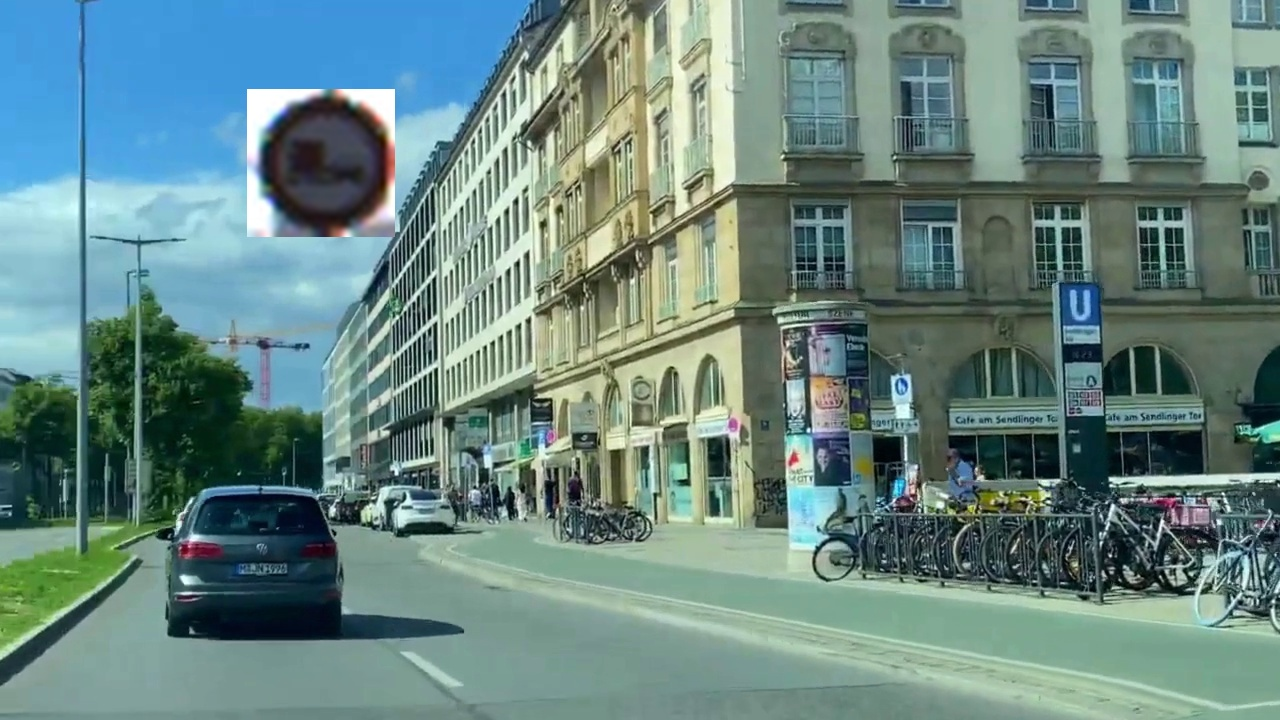No pass >3.5t: (247, 89, 395, 237)
